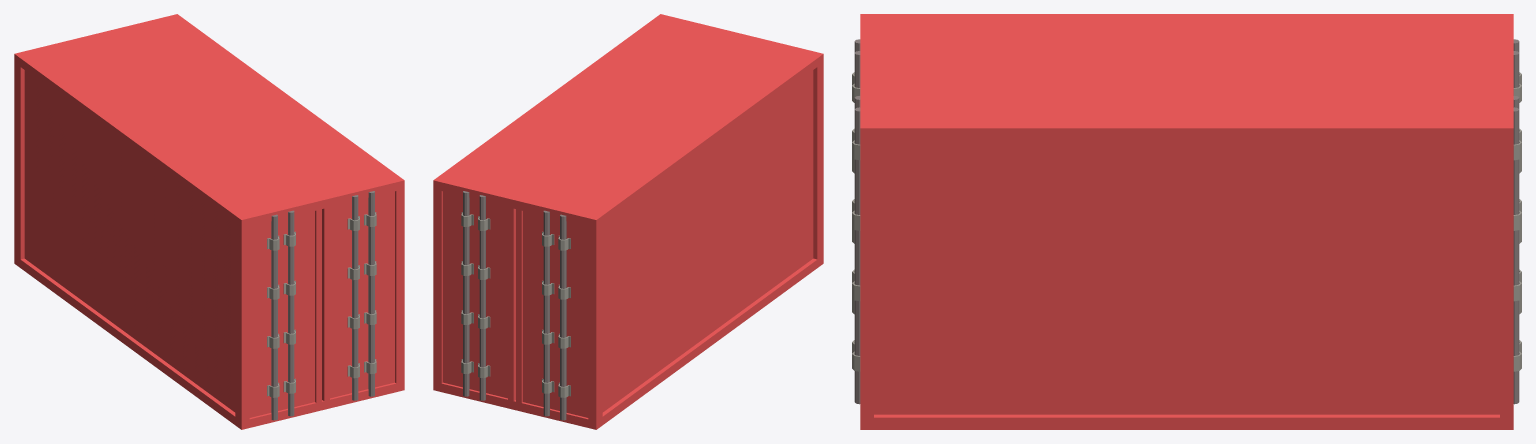
File: container_04.fbx
3 views of the same model, side by side, from view 1: azimuth 30°, elevation 25°; view 2: azimuth 150°, elevation 25°; view 3: azimuth 270°, elevation 25° (orthographic). The views are drawn at different scales.
Parts seen in each view (by area): view 1: container04; view 2: container04; view 3: container04.
Boxes of the visible parts, x1=… form: container04: x1=14, y1=14, x2=404, y2=429; container04: x1=433, y1=14, x2=823, y2=429; container04: x1=852, y1=14, x2=1521, y2=429.
Bounding box in the file's own units: 138 × 342 × 170.
